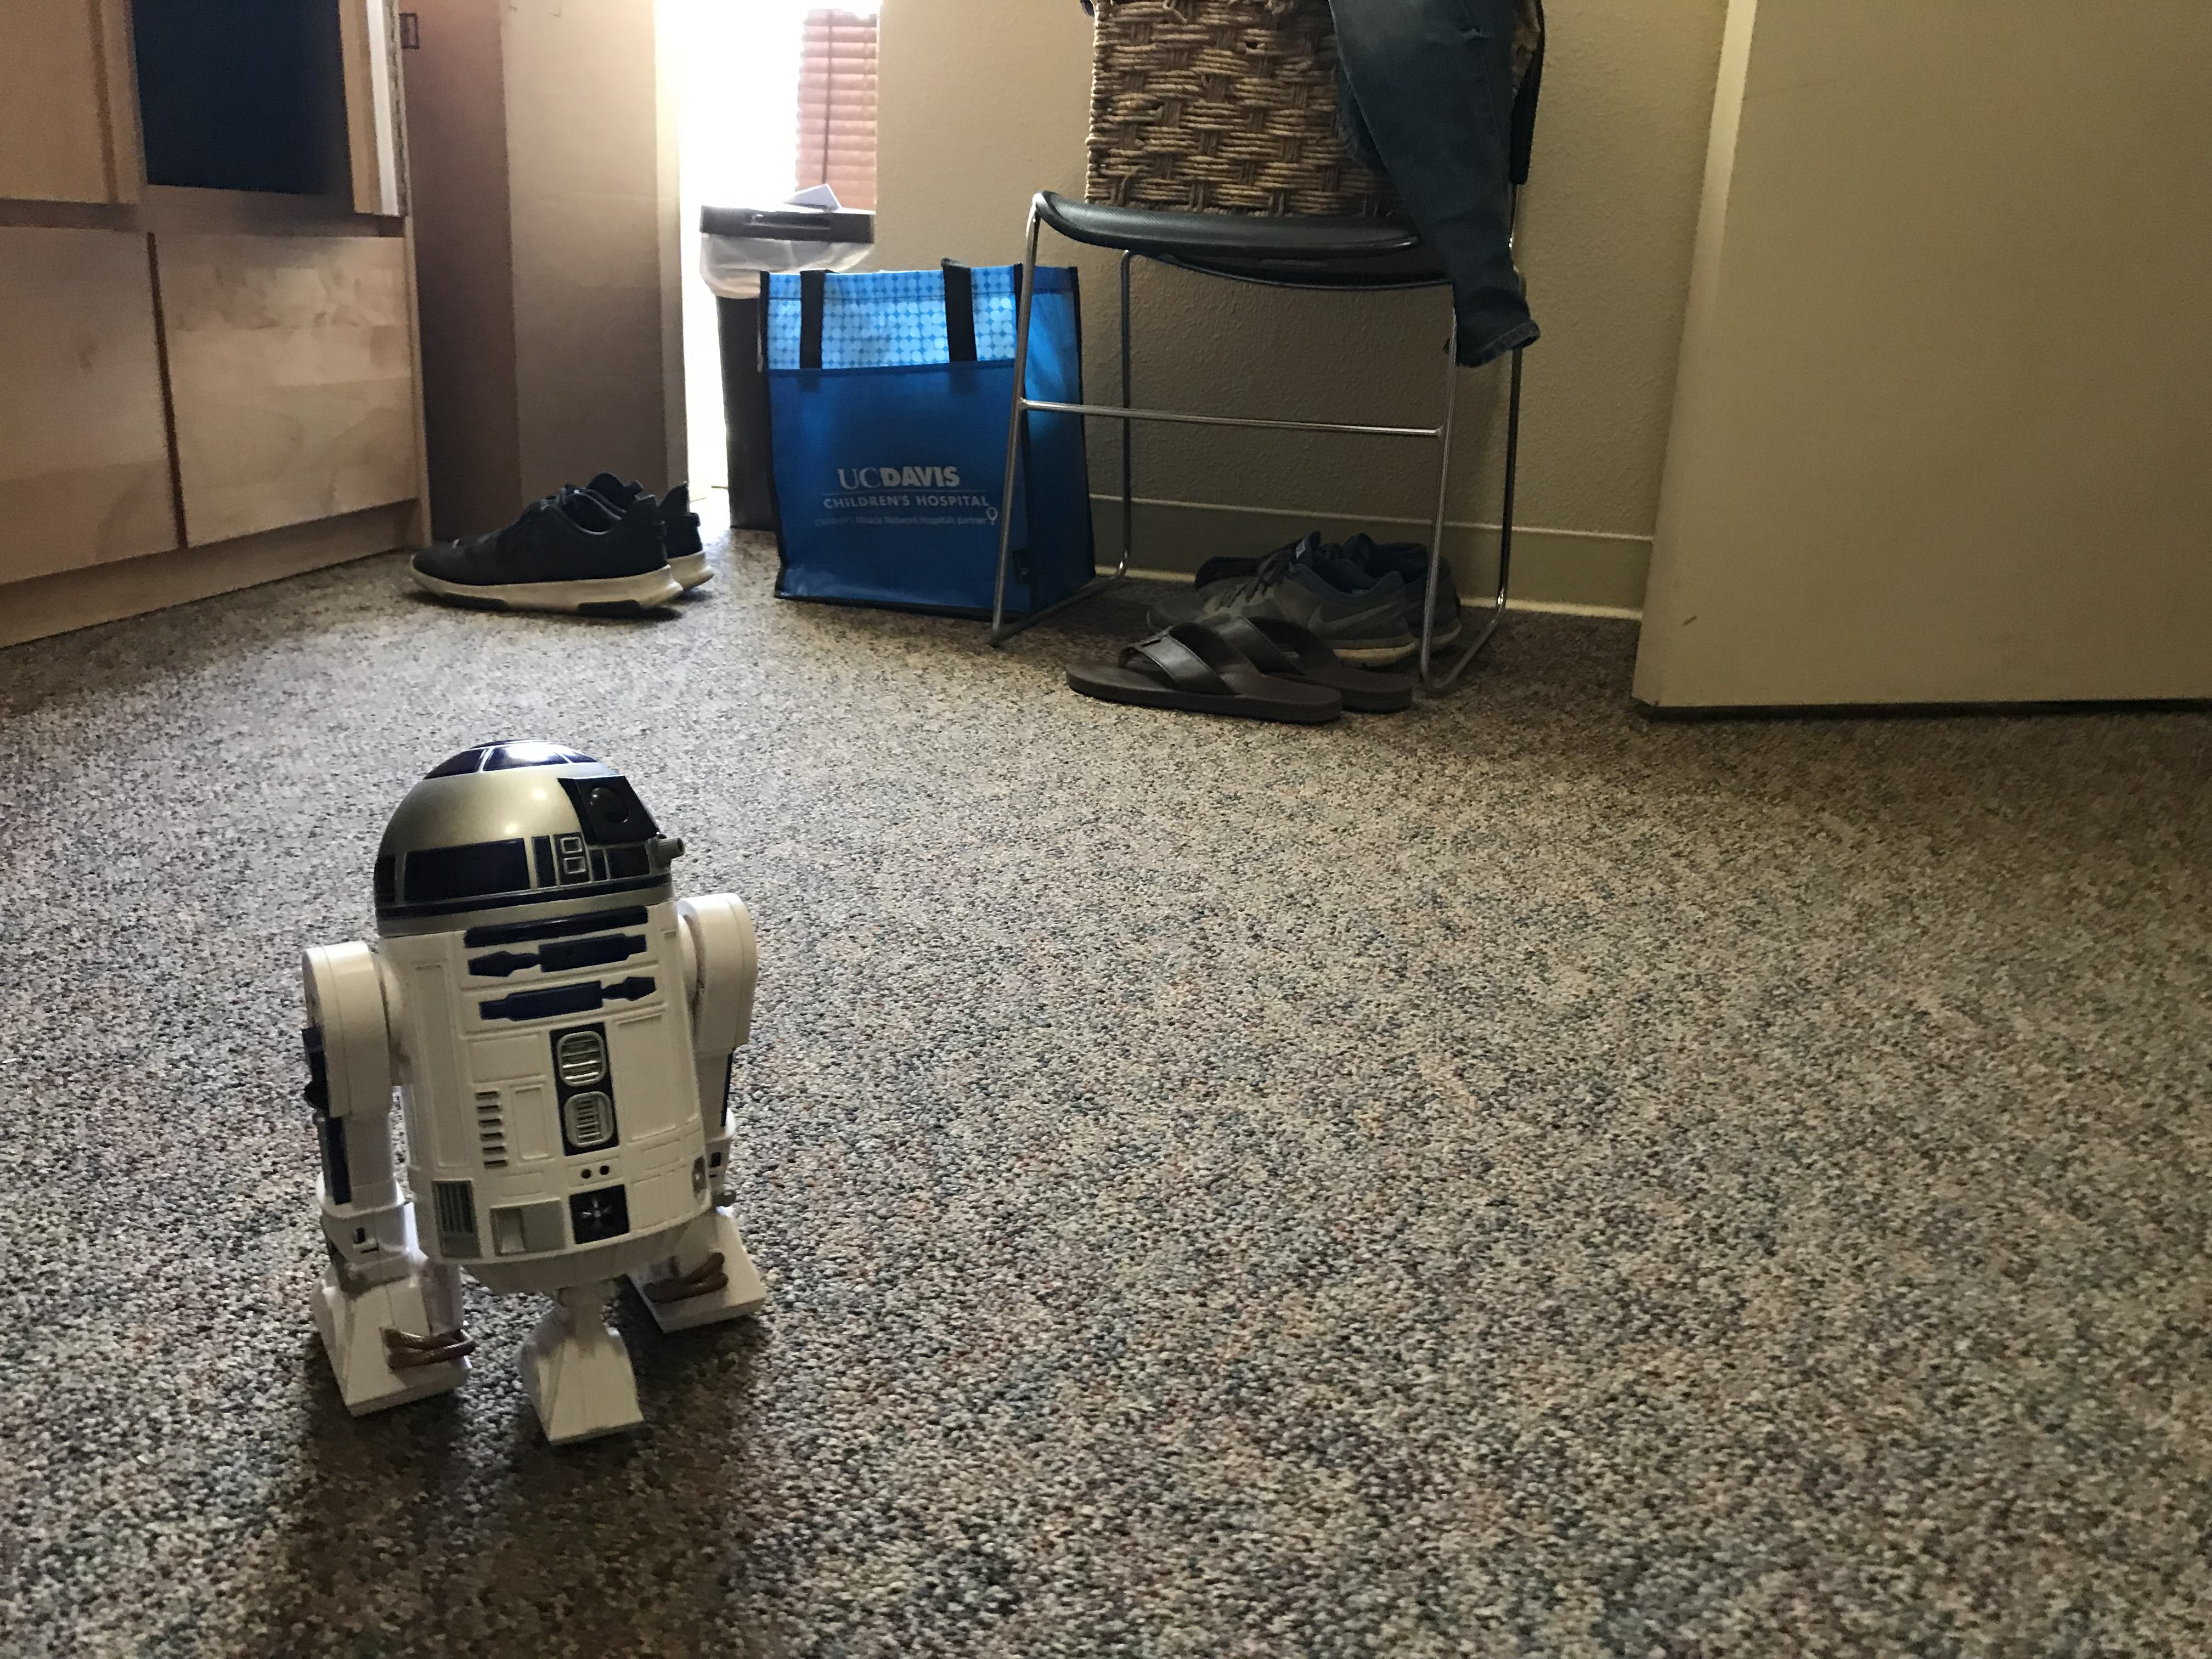r2d2: (303, 741, 768, 1438)
